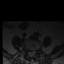CCS_normal: (30, 49, 32, 59)
LFS_severe_stenosis: (35, 48, 37, 54)
LLS_normal: (32, 49, 35, 58)
RFS_severe_stenosis: (25, 48, 28, 54)
RLS_normal: (28, 49, 30, 58)
